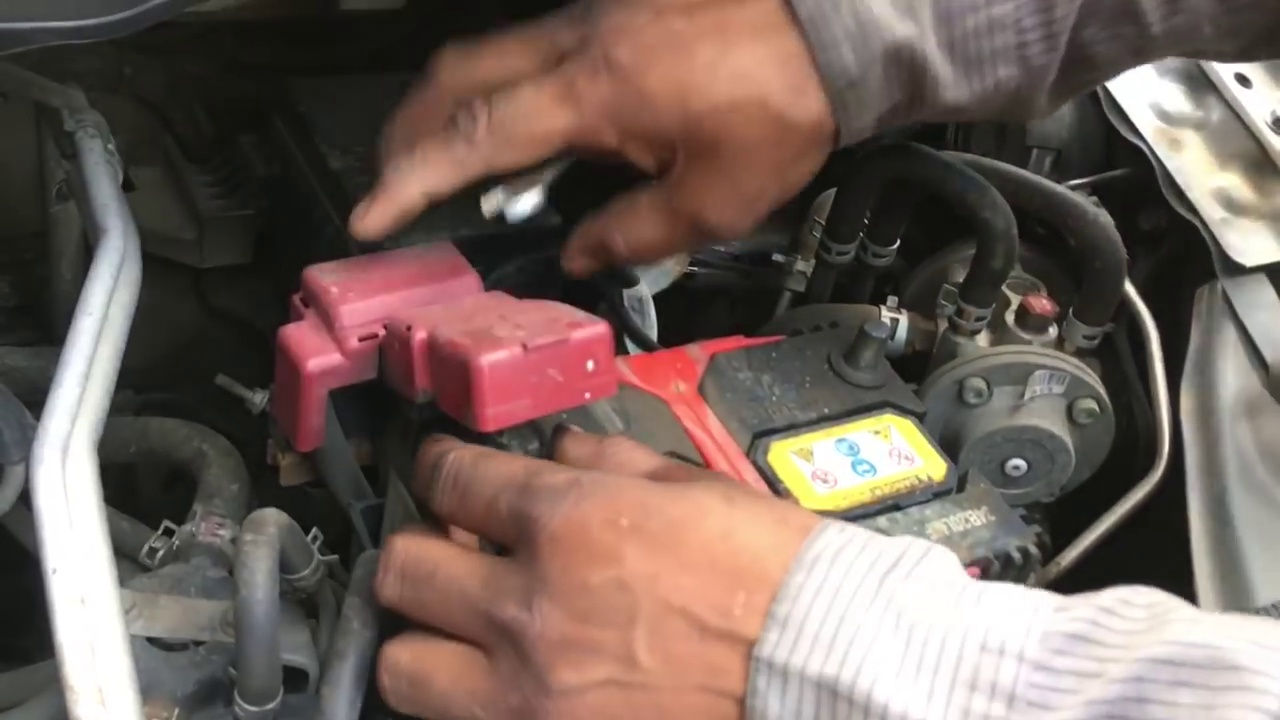battery: (358, 261, 1009, 658)
neg_disconnected: (802, 307, 917, 406)
pos_touched: (342, 174, 659, 578)
